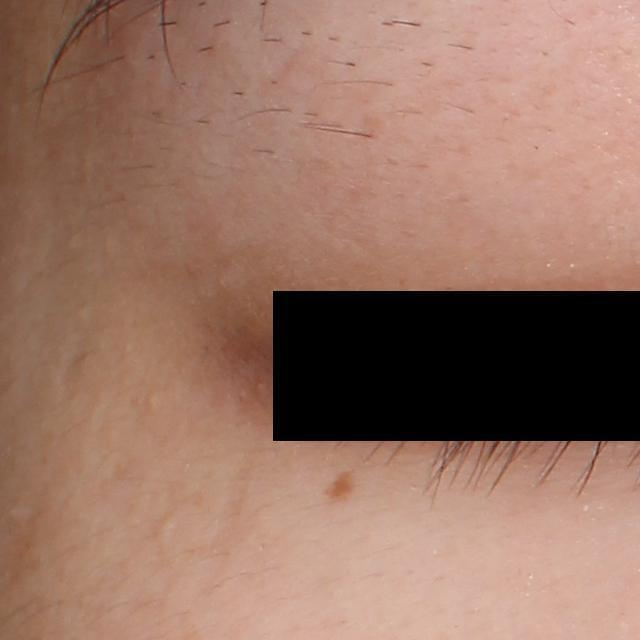melasma: (324, 465, 359, 504)
